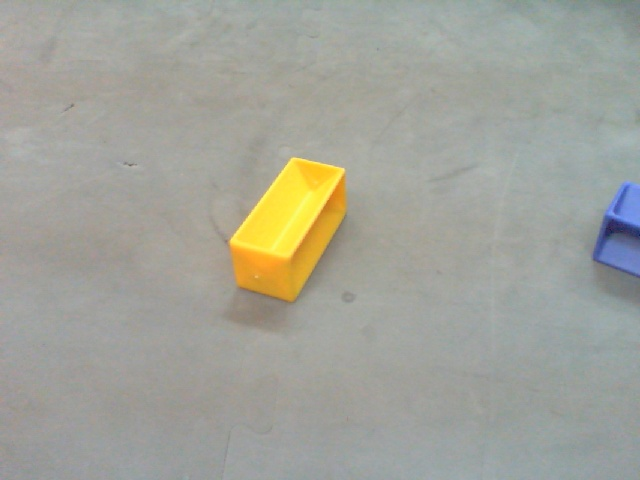BlueSample: (590, 181, 640, 280)
YellowSample: (227, 156, 349, 306)
